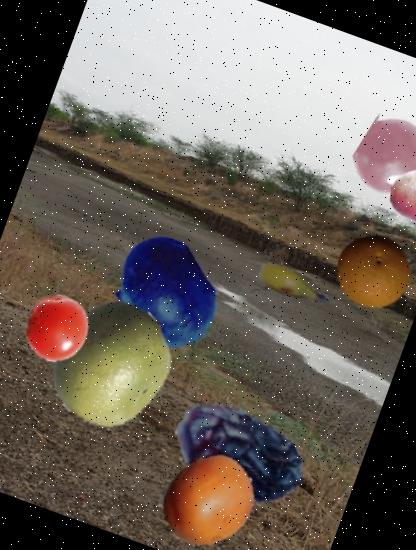Apricot: (146, 438, 269, 550)
Banana: (242, 237, 345, 340)
Cherry: (381, 159, 416, 235)
Dates: (152, 366, 326, 540)
Huckleberry: (92, 221, 237, 366)
Orange: (324, 221, 416, 320)
Pomelo: (30, 283, 192, 446)
Redcurrant: (345, 108, 416, 212)
Tomato: (14, 286, 101, 372)
